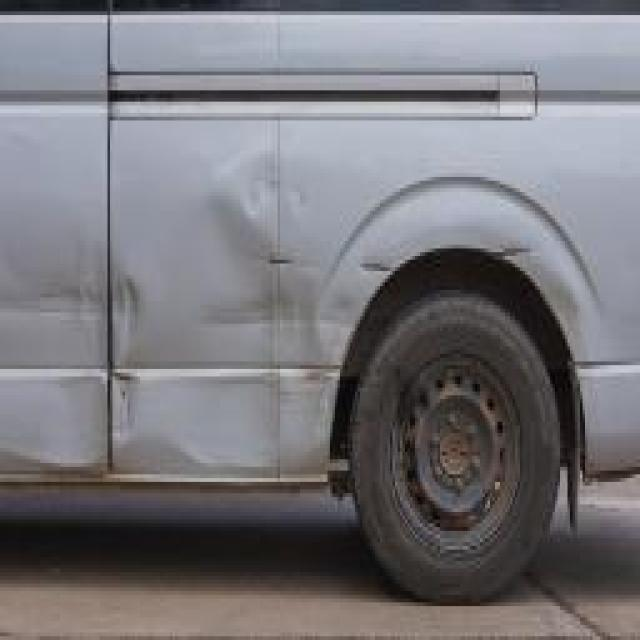Fender: (112, 15, 628, 474)
